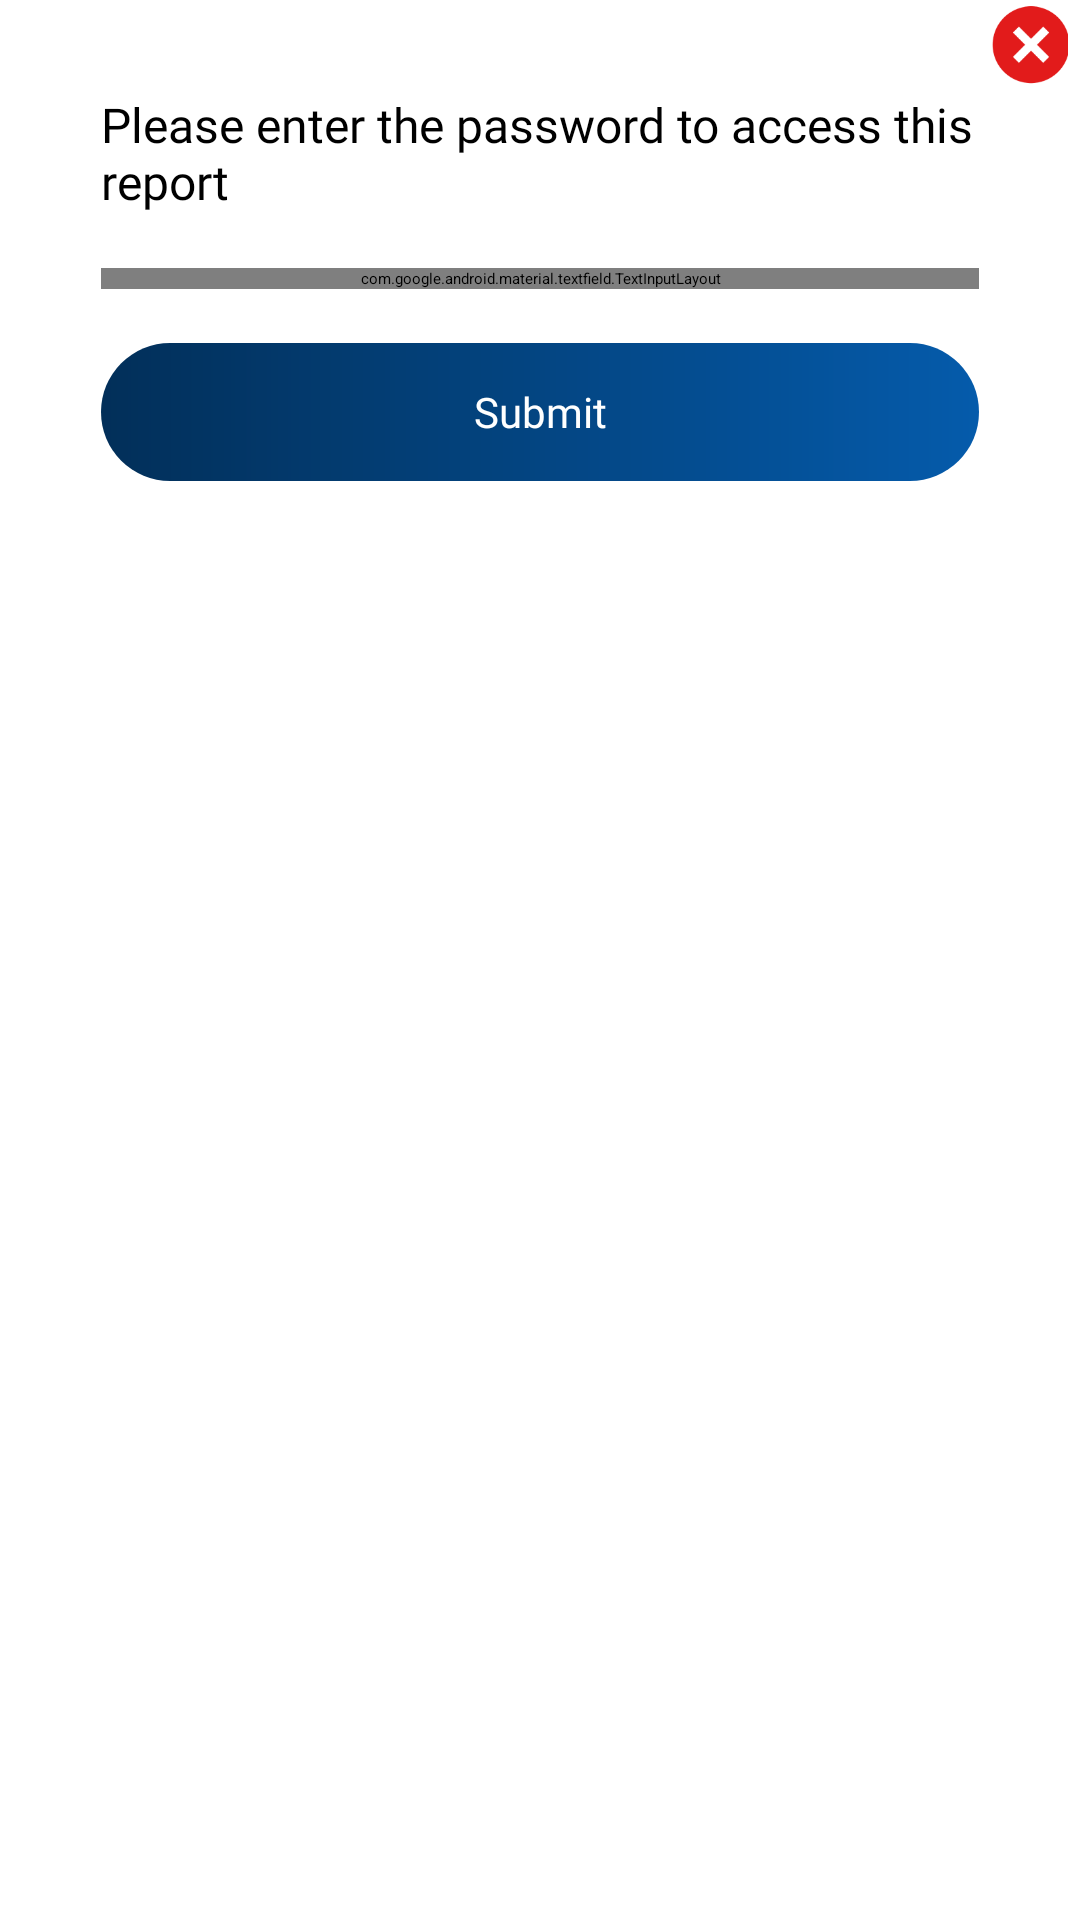

Named icons in this screenshot (1080*1920) and their bounding boxes, (left=x1, top=y1, right=x2, bottom=y2):
cancel: (left=992, top=6, right=1068, bottom=84)
